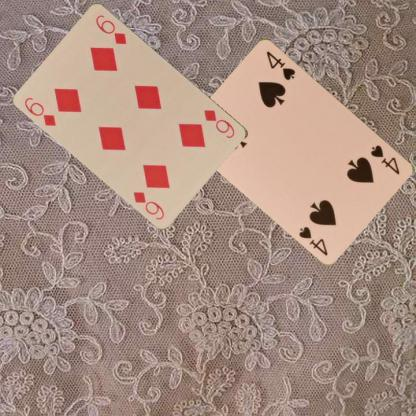4s: (368, 142, 402, 176)
6d: (22, 94, 58, 128), (202, 107, 236, 140)
